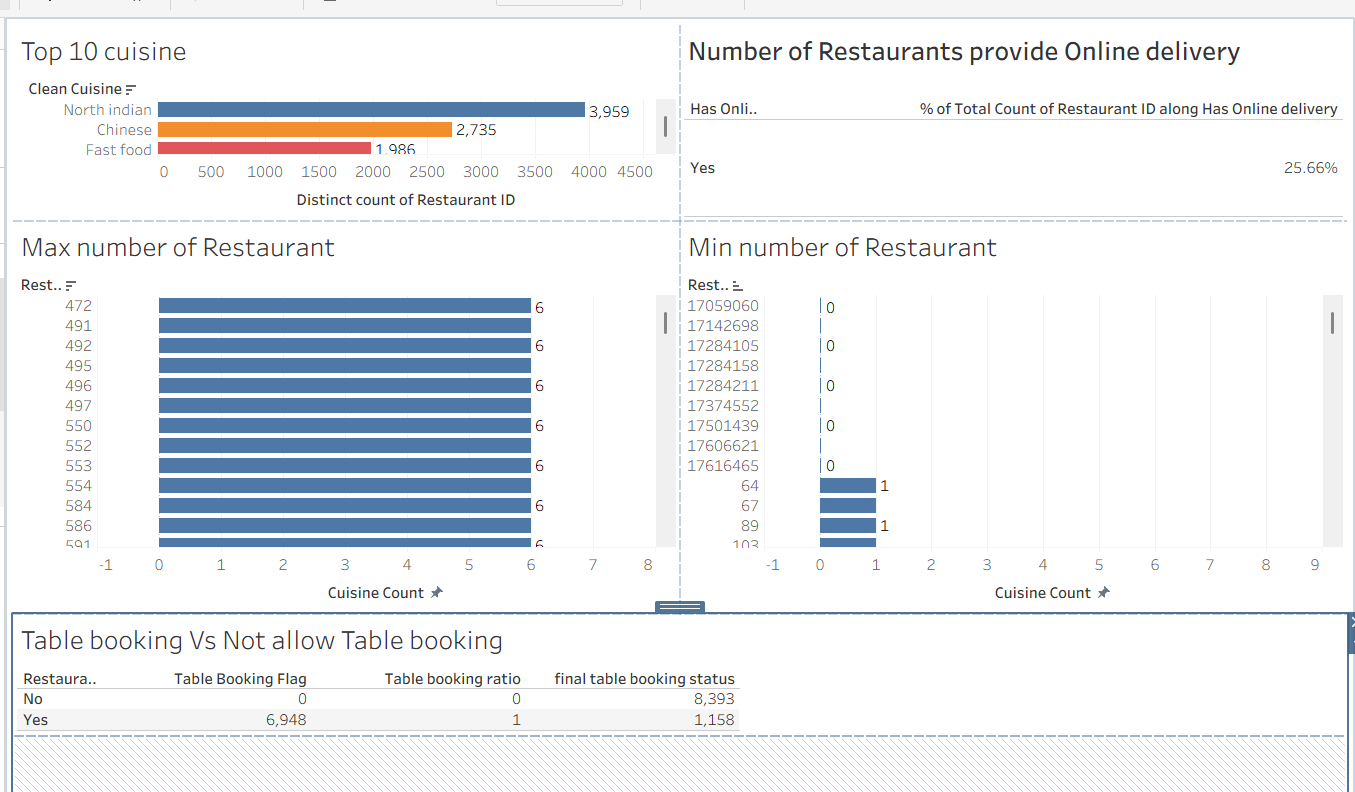

The dashboard page shown, as its layout file describes it:
{"tool":"tableau","page":{"name":"Dashboard 1","canvas":[1000,1000],"units":"permille","ordinal":0},"visuals":[{"type":"worksheet","title":"Sheet 1","mark":"Automatic","rows":["Calculation_927741556387540993"],"cols":["Restaurant ID"],"box":[5.9,10,494.1,245]},{"type":"worksheet","title":"Sheet 7","mark":"Automatic","rows":["Has Online delivery"],"box":[500,10,494.1,245]},{"type":"worksheet","title":"Max number of Restaurant","mark":"Automatic","rows":["Restaurant ID"],"cols":["Calculation_530861839459106824"],"box":[5.9,255,494.1,490]},{"type":"worksheet","title":"Min number of Restaurant","mark":"Automatic","rows":["Restaurant ID"],"cols":["Calculation_530861839459106824"],"box":[500,255,494.1,490]},{"type":"worksheet","title":"Sheet 6","mark":"Automatic","rows":["Calculation_530861839454244870"],"box":[5.9,745,988.1,150.9]}]}

Visuals, with their boxes on the dashboard's canvas, which has no fixed pixel size, in thousandths of its width and height (x1, y1, x2, y2). These are canvas units, not pixel positions in the 1355x792 screenshot, which may show the page scaled, cropped or inside an application window:
"Sheet 1" worksheet: [left=6, top=10, right=500, bottom=255]
"Sheet 7" worksheet: [left=500, top=10, right=994, bottom=255]
"Max number of Restaurant" worksheet: [left=6, top=255, right=500, bottom=745]
"Min number of Restaurant" worksheet: [left=500, top=255, right=994, bottom=745]
"Sheet 6" worksheet: [left=6, top=745, right=994, bottom=896]
